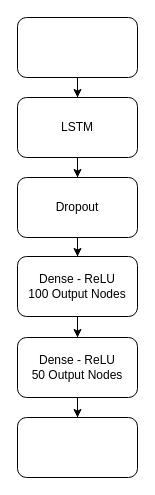
This 155x495 diagram has some shape labels left out. Each missing label, with the centre of its shape:
Dense - SoftMax 20 Output Nodes: point 77,447
Pretrained Embeddings: point 77,47
